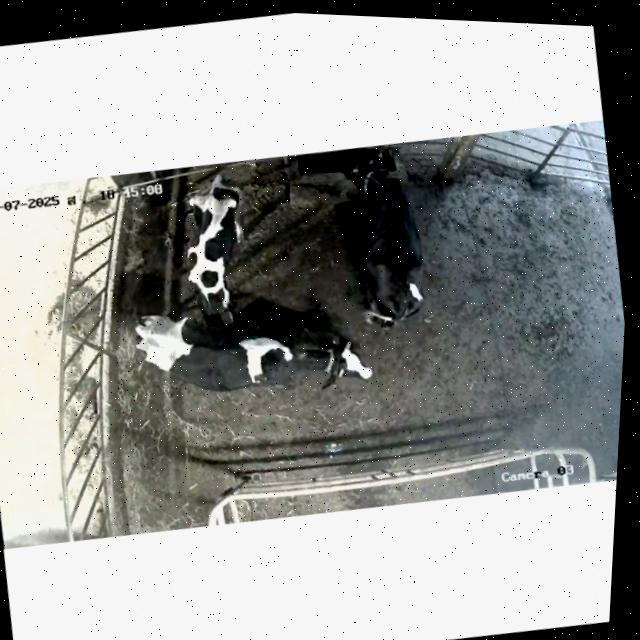stand: (115, 274, 384, 435), (163, 157, 291, 333)
